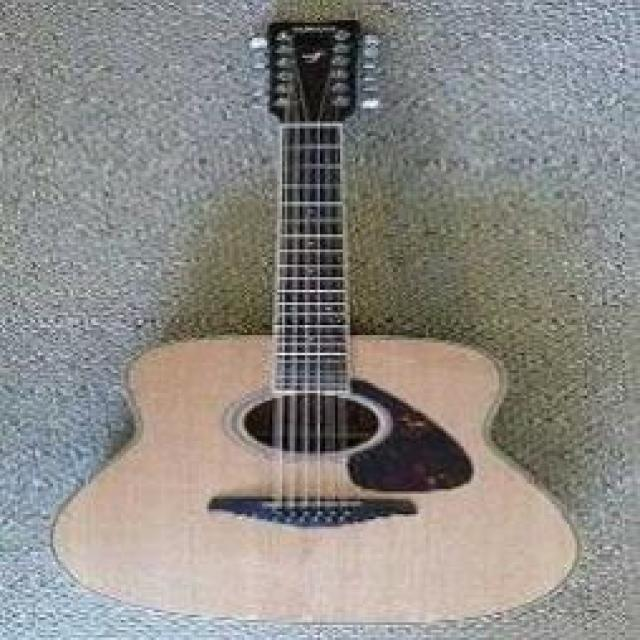acousticguitar: (53, 18, 577, 622)
